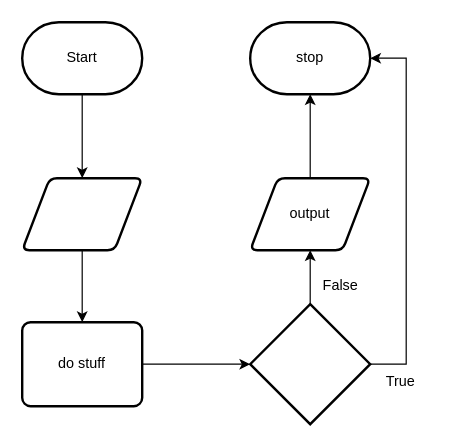
The diagram is 450 pixels wide and 445 high, and some of its shapes have lost their labels. The shapes that lost their labels are listed below. From the top down, each one's centre as x and y in pixels, then its label:
At (81,213): "input".
At (309,363): "if (SomeVar > 10)".
